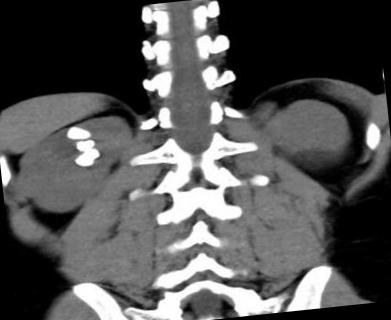Tas_Var: (70, 146, 103, 168), (63, 123, 95, 142), (72, 136, 98, 152)
